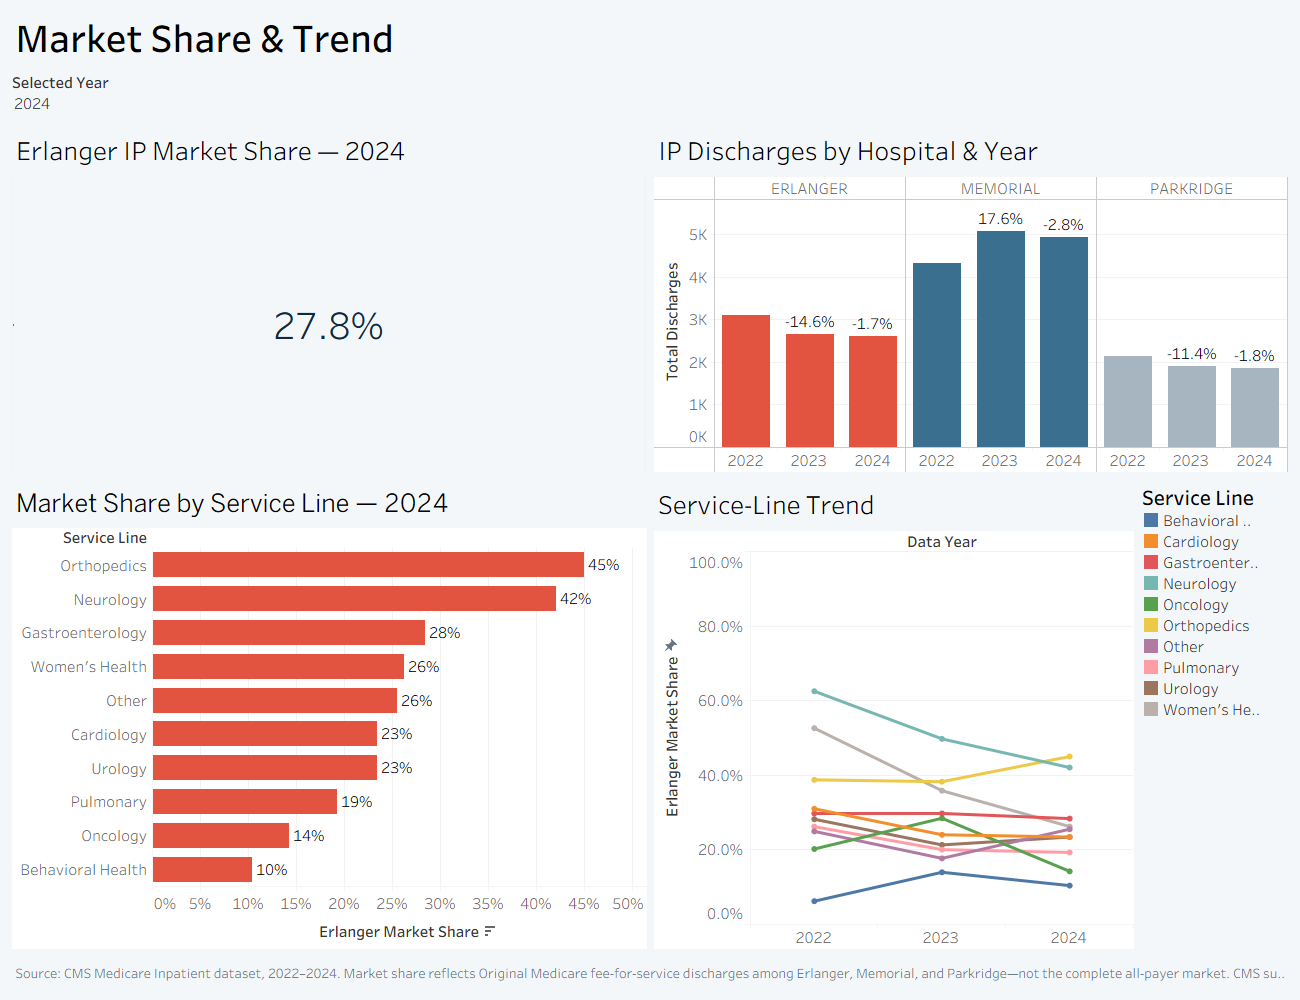

This screenshot's page, from the dashboard's own definition file:
{"tool":"tableau","page":{"name":"Market Share & Trend","canvas":[1300,1000],"ordinal":1},"visuals":[{"type":"title","box":[8,8,1284,59]},{"type":"parameter","param":"[Parameters].[Parameter 2286192683601920]","box":[8,67,1284,56]},{"type":"worksheet","title":"Erlanger IP Market Share","mark":"Bar","box":[8,123,642,354]},{"type":"worksheet","title":"IP Discharges by Hospital & Year","mark":"Bar","rows":["Tot_Dschrgs"],"cols":["facility_name","data_year"],"box":[650,123,642,354]},{"type":"worksheet","title":"Market Share by Service Line","mark":"Bar","rows":["service_line"],"cols":["Calculation_2547879702568960"],"box":[8,477,642,476]},{"type":"worksheet","title":"Service-Line Trend","mark":"Line","rows":["Calculation_2547879702568960"],"cols":["data_year"],"box":[650,477,474,476]},{"type":"legend","title":"Service-Line Trend","param":"[federated.1pkp6fx156fr7w15bbkhj0qb7unp].[none:service_line:nk]","box":[1124,477,168,476]},{"type":"text","box":[8,953,1284,39]}]}

Visuals, with their boxes in screenshot pixels (x1, y1, x2, y2), scaled from the page's 1300x1000 canvas onto the 1300x1000 screenshot:
title: 8:8:1292:67
parameter: 8:67:1292:123
"Erlanger IP Market Share" worksheet (Bar marks): 8:123:650:477
"IP Discharges by Hospital & Year" worksheet (Bar marks): 650:123:1292:477
"Market Share by Service Line" worksheet (Bar marks): 8:477:650:953
"Service-Line Trend" worksheet (Line marks): 650:477:1124:953
"Service-Line Trend" legend: 1124:477:1292:953
text: 8:953:1292:992
